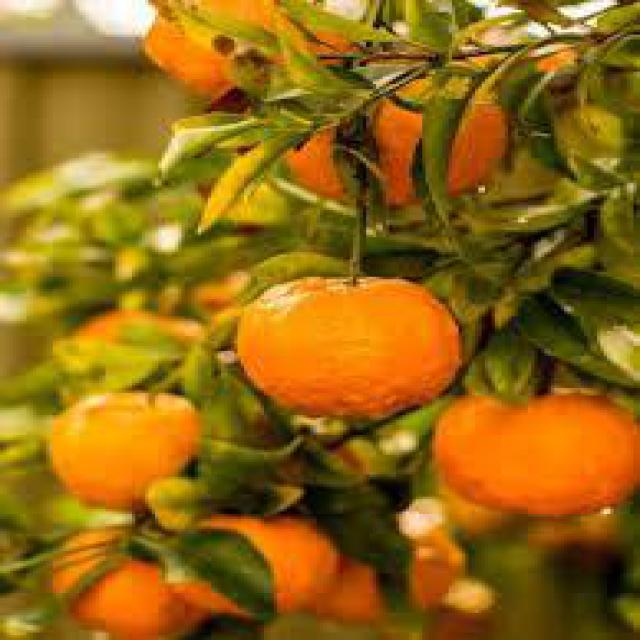orange: (228, 276, 468, 422), (437, 392, 637, 517), (362, 78, 510, 203), (47, 391, 200, 508), (193, 516, 339, 616), (142, 12, 242, 101), (282, 125, 361, 202), (404, 533, 465, 611), (230, 137, 261, 161)
